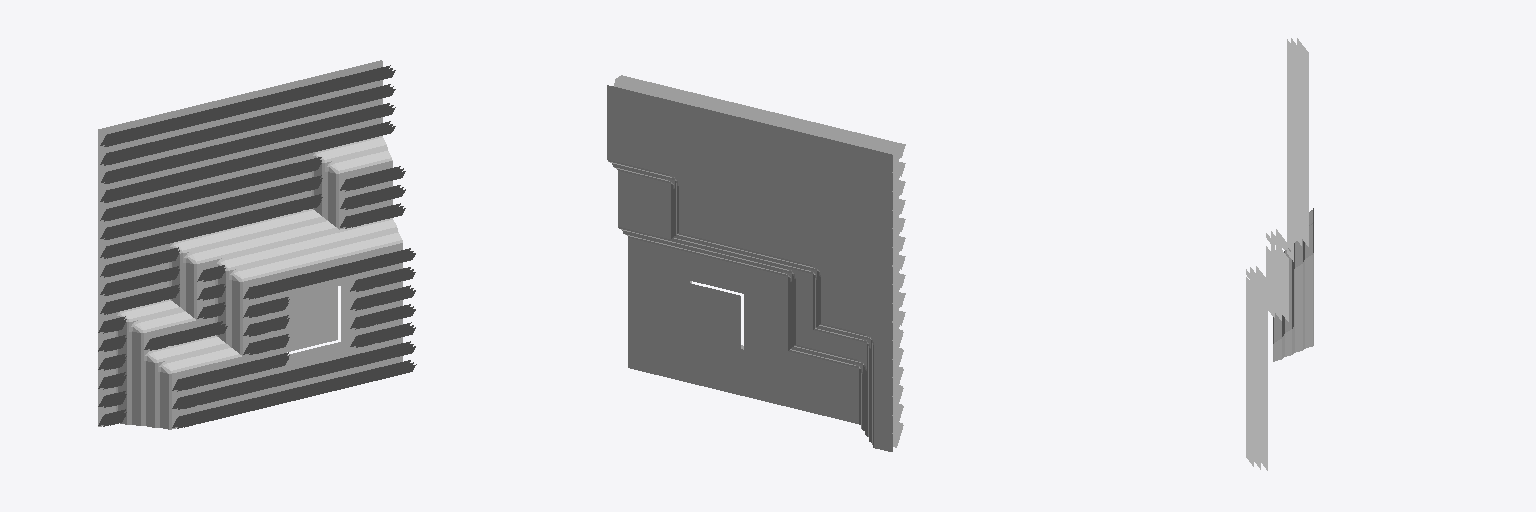
The model's file is Plat_full_08_00.obj.
3 views of the same model, side by side, from view 1: azimuth 30°, elevation 25°; view 2: azimuth 150°, elevation 25°; view 3: azimuth 270°, elevation 25° (orthographic).
Visible parts, largest first — view 1: map; view 2: map; view 3: map.
Boxes of the visible parts, x1,y1,x2,y2 form: map: [98, 60, 416, 429]; map: [607, 75, 905, 451]; map: [1246, 38, 1313, 470].
Size of the model in its own units: 32.25 by 32.12 by 6.64.